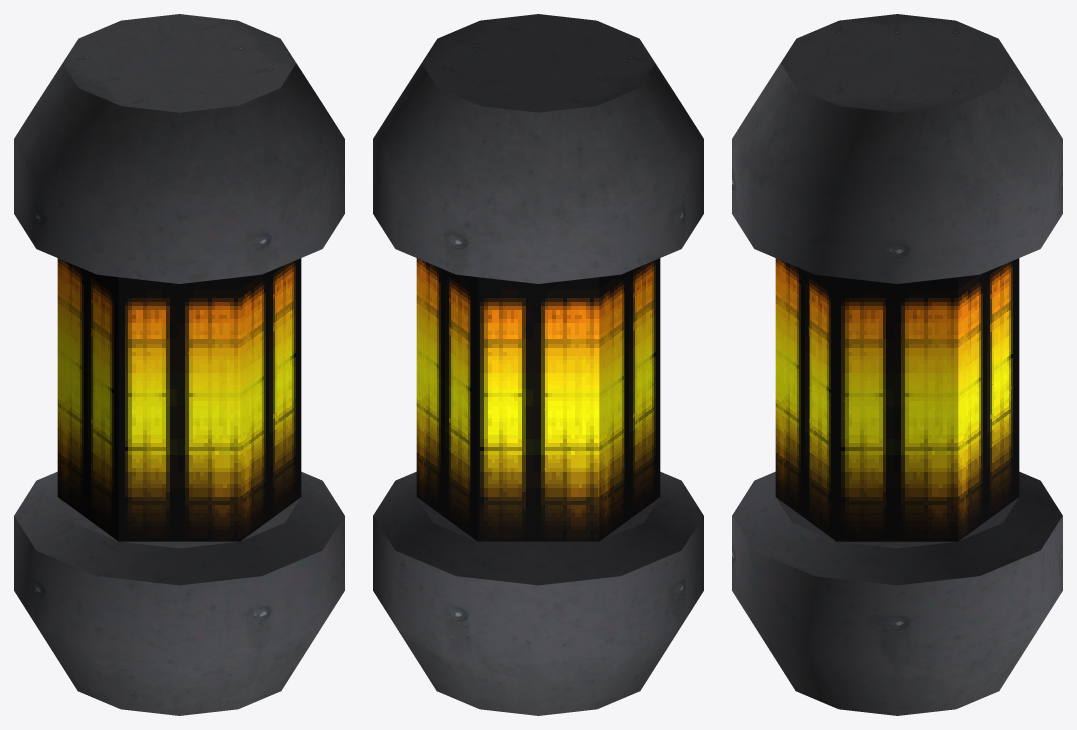
The model's file is firegrenade.glb.
3 views of the same model, side by side, from view 1: azimuth 30°, elevation 25°; view 2: azimuth 150°, elevation 25°; view 3: azimuth 270°, elevation 25° (orthographic).
Parts seen in each view (by area): view 1: weapons/firegrenade_0, weapons/firegrenade_1; view 2: weapons/firegrenade_0, weapons/firegrenade_1; view 3: weapons/firegrenade_0, weapons/firegrenade_1.
Part boxes in pixels (left/top/right/bottom): weapons/firegrenade_0: left=14, top=14, right=344, bottom=715; weapons/firegrenade_1: left=57, top=258, right=301, bottom=541; weapons/firegrenade_0: left=373, top=14, right=703, bottom=715; weapons/firegrenade_1: left=416, top=258, right=660, bottom=541; weapons/firegrenade_0: left=732, top=14, right=1062, bottom=715; weapons/firegrenade_1: left=775, top=258, right=1019, bottom=541.
Size of the model in its own units: 0.9941 by 2 by 0.9941.
Materials: 2 (2 with a texture image).
